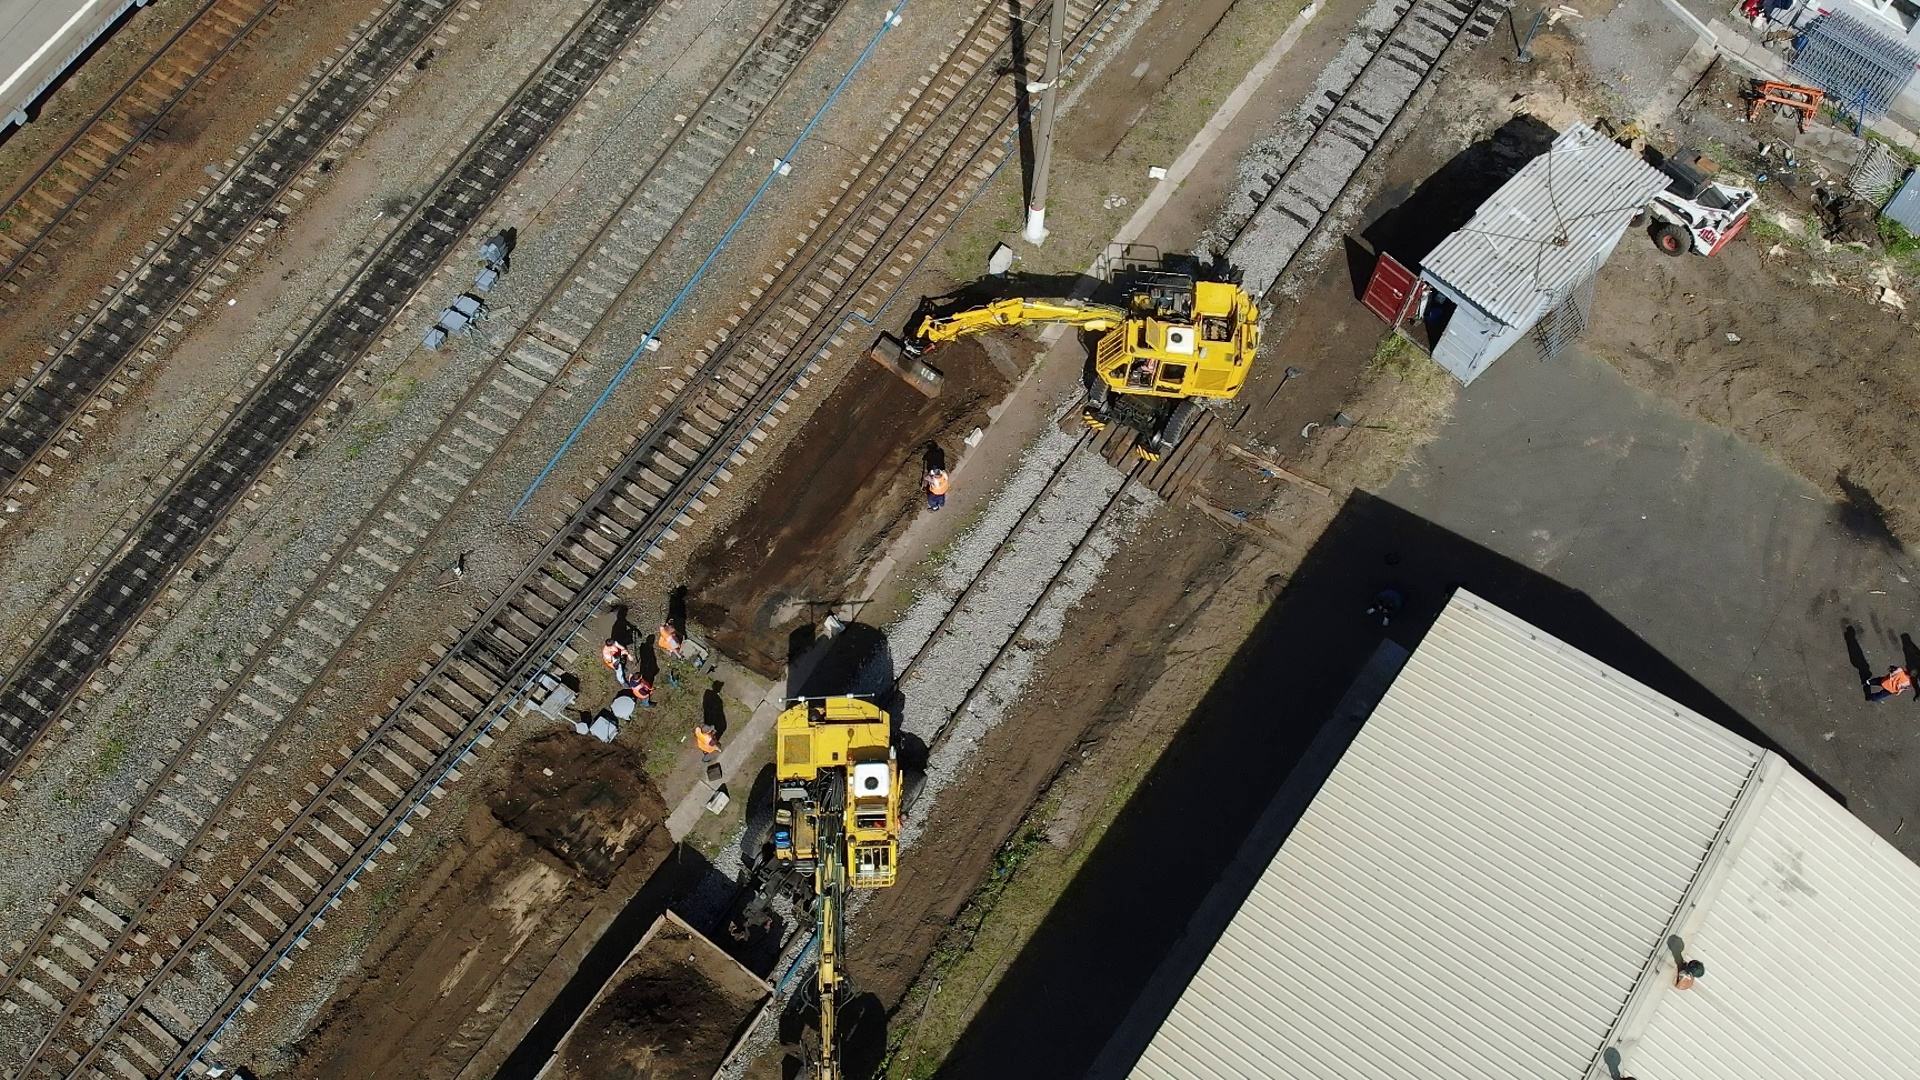kjtv: (1032, 270, 1270, 444), (747, 691, 925, 887)
